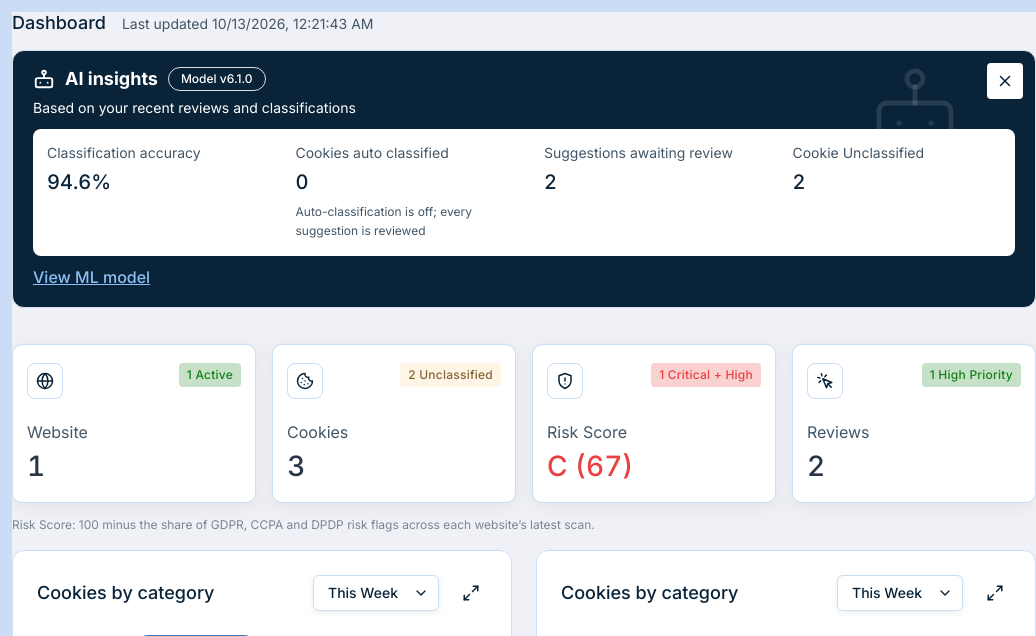
Test case: DashboardPage › links to the ML Model page and can be dismissed
This screenshot has width=1036, height=636.
Click the button "View ML model" at (92, 278), box left=33, top=268, right=150, bottom=287
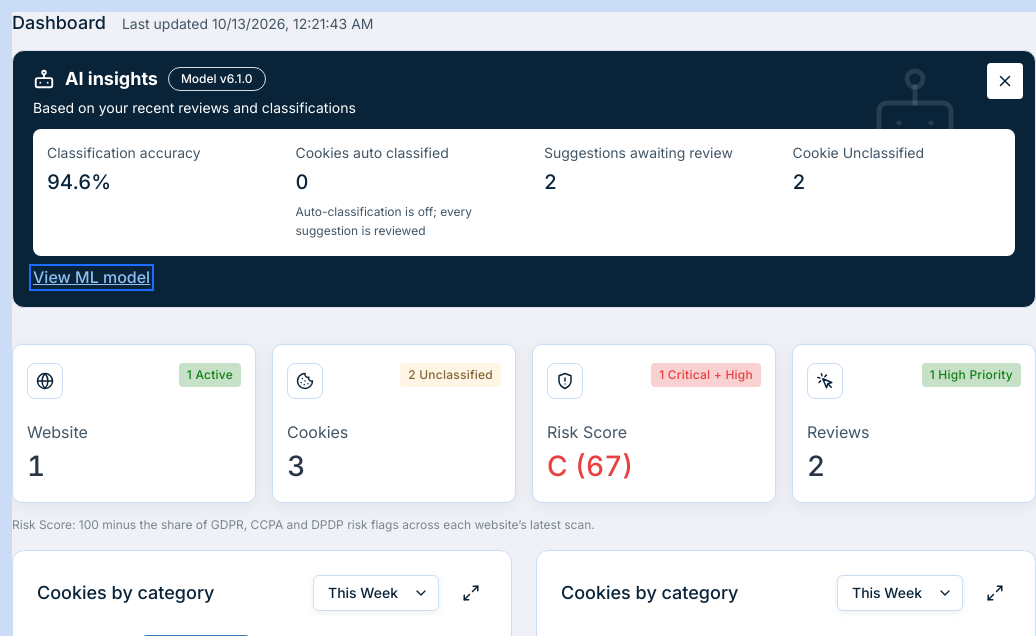
Click the button named "Dismiss AI insights" at (1005, 81), box left=987, top=63, right=1023, bottom=99
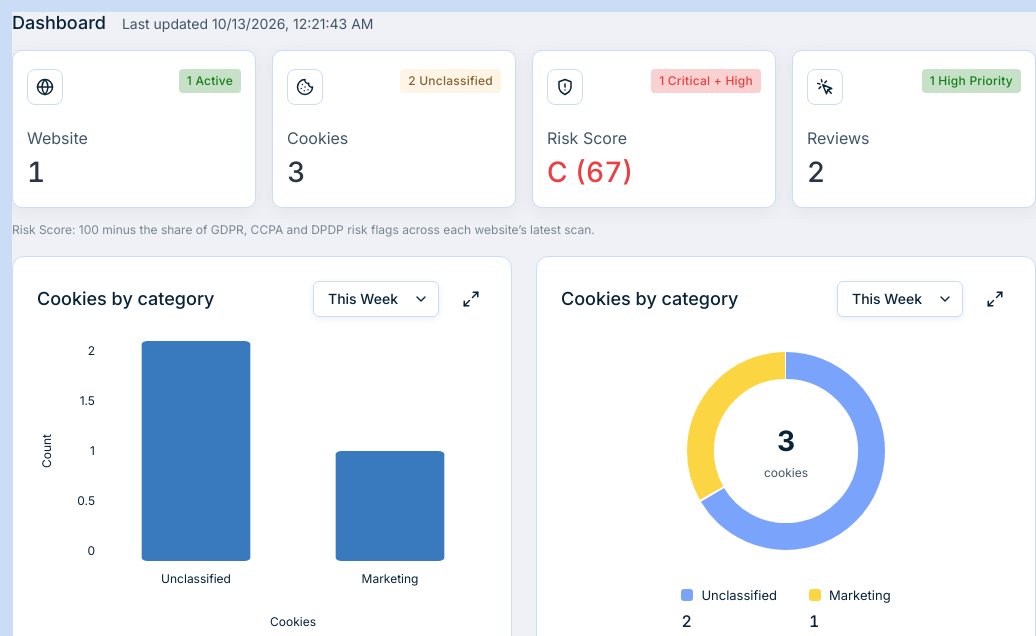
Expected: the heading "AI insights" is gone
